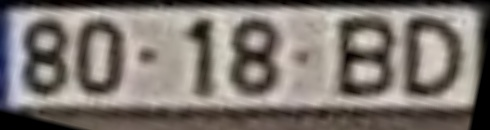0: (72, 16, 128, 101)
1: (182, 18, 218, 104)
8: (226, 15, 283, 103), (17, 16, 71, 102)
B: (333, 14, 397, 101)
D: (400, 15, 467, 104)
